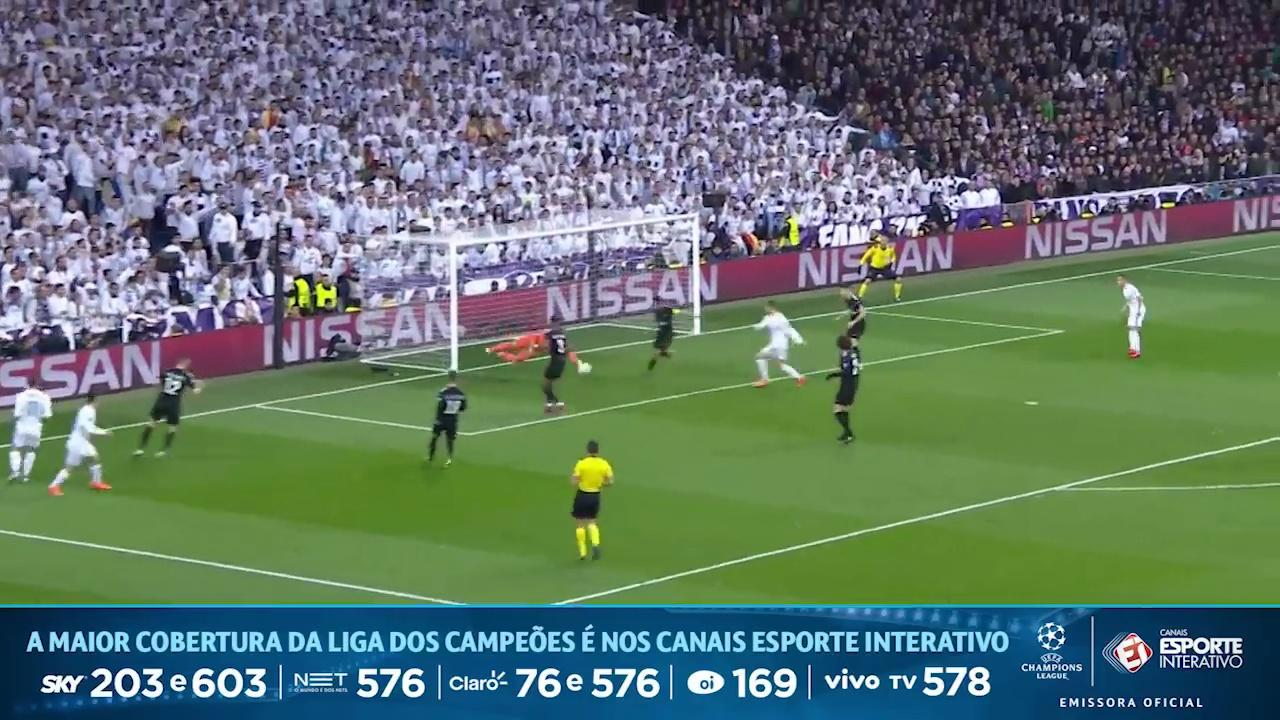football: (578, 361, 591, 373)
player: (134, 358, 200, 456), (48, 395, 110, 495), (754, 301, 804, 387), (9, 381, 51, 481), (427, 370, 467, 466), (827, 335, 861, 443), (543, 319, 573, 413), (1117, 275, 1145, 358), (648, 305, 678, 370), (486, 331, 546, 363), (486, 332, 543, 362), (841, 288, 866, 339)
referee: (571, 440, 613, 559), (856, 233, 902, 300)
